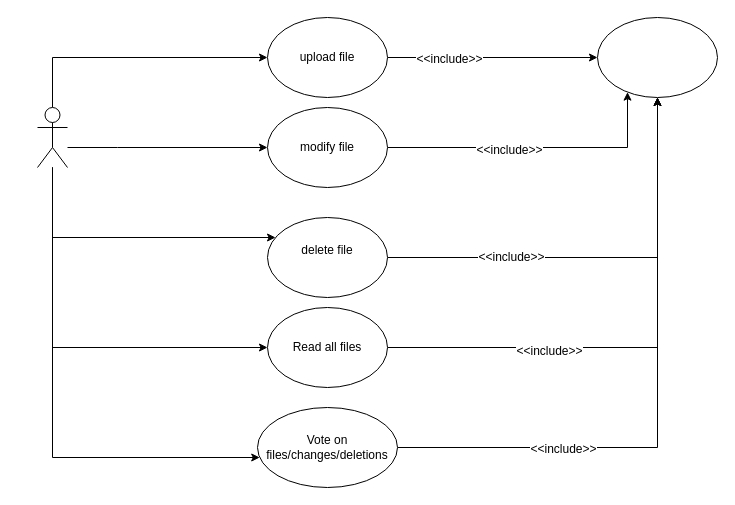
Some shapes in this 735 by 505 pixel diagram are drawn without their labels. The centre of each missing label's shape, as x and y in pixels:
"Administrator" belongs at (52,137).
"Login" belongs at (657,57).
